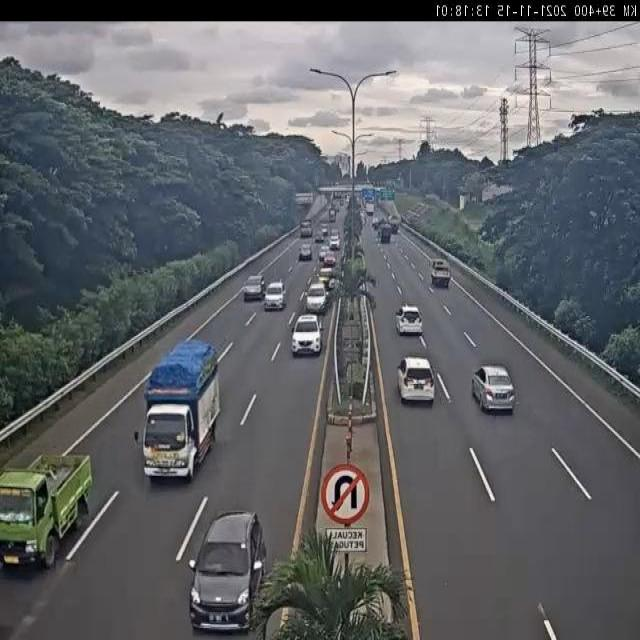Car: (187, 508, 266, 631), (472, 364, 516, 413), (396, 354, 436, 402), (290, 314, 323, 357), (395, 304, 423, 335), (305, 283, 328, 314), (263, 281, 286, 311), (243, 274, 266, 301), (430, 258, 451, 287), (299, 242, 313, 260), (322, 252, 337, 268), (300, 221, 312, 238), (329, 234, 340, 250)
Truck: (135, 335, 222, 489), (0, 450, 95, 574)
